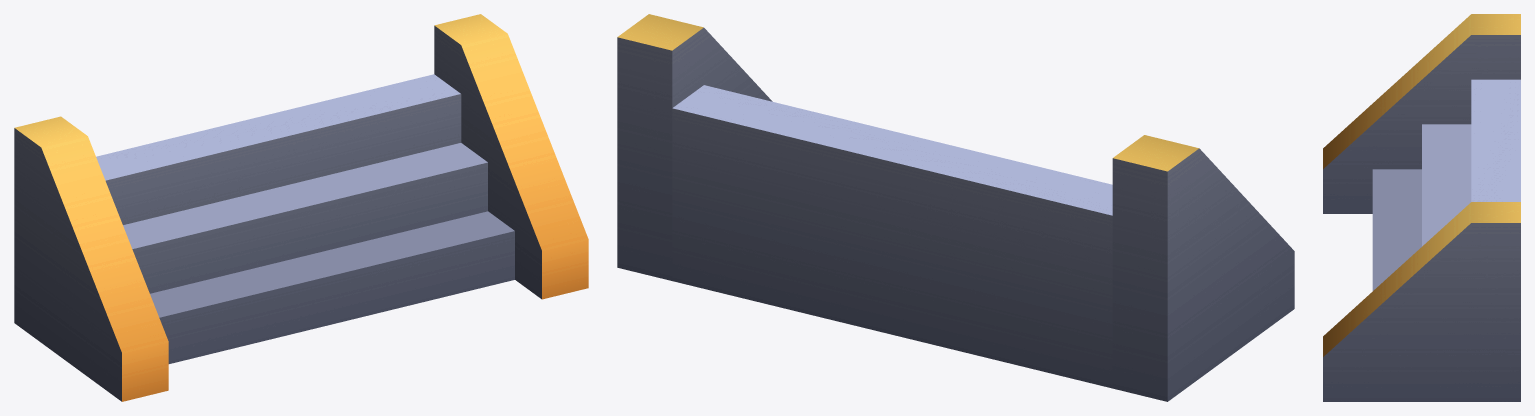
Rendered from stairs-small-edges.glb.
3 views of the same model, side by side, from view 1: azimuth 30°, elevation 25°; view 2: azimuth 150°, elevation 25°; view 3: azimuth 270°, elevation 25° (orthographic). The views are drawn at different scales.
Visible parts, largest first — view 1: stairs-small-edges; view 2: stairs-small-edges; view 3: stairs-small-edges.
Boxes of the visible parts, bbox=[...] form: stairs-small-edges: bbox=[14, 14, 588, 401]; stairs-small-edges: bbox=[617, 14, 1294, 401]; stairs-small-edges: bbox=[1323, 14, 1520, 401].
Size of the model in its own units: 1 by 0.4 by 0.4.
Materials: 1 (1 with a texture image).
